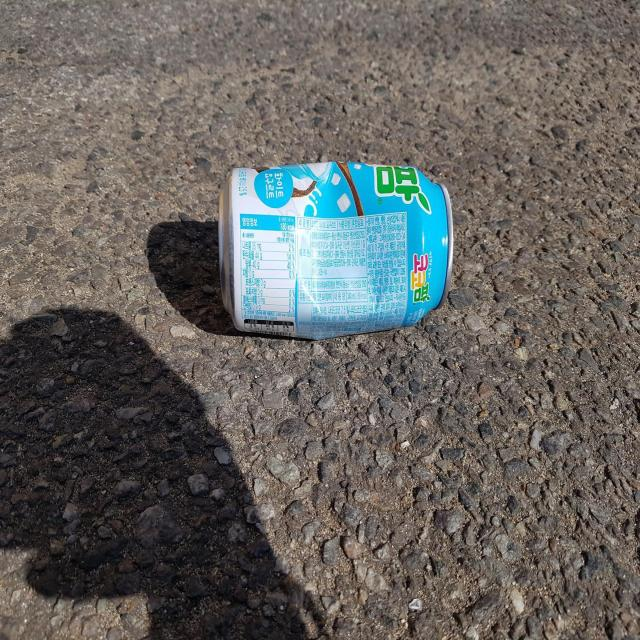can: (219, 161, 454, 339)
